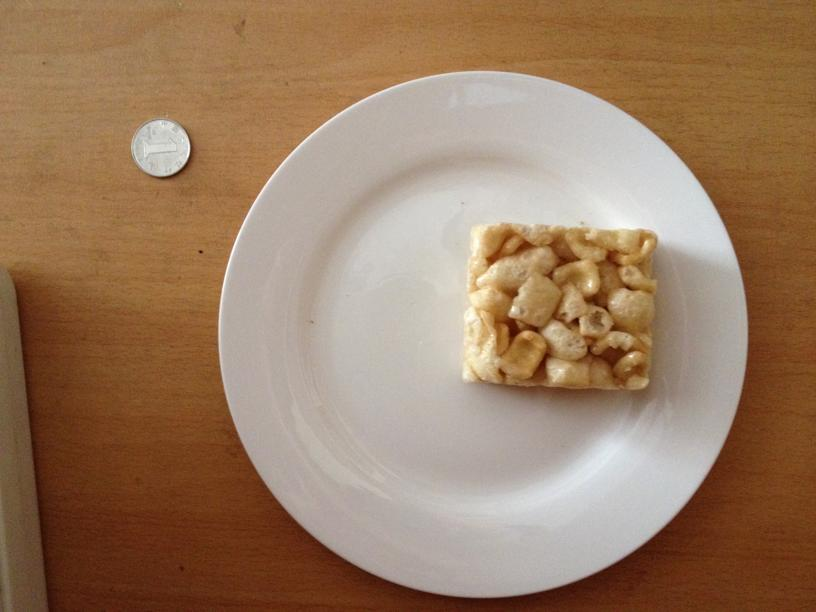coin: (128, 119, 192, 176)
sachima: (465, 220, 655, 394)
